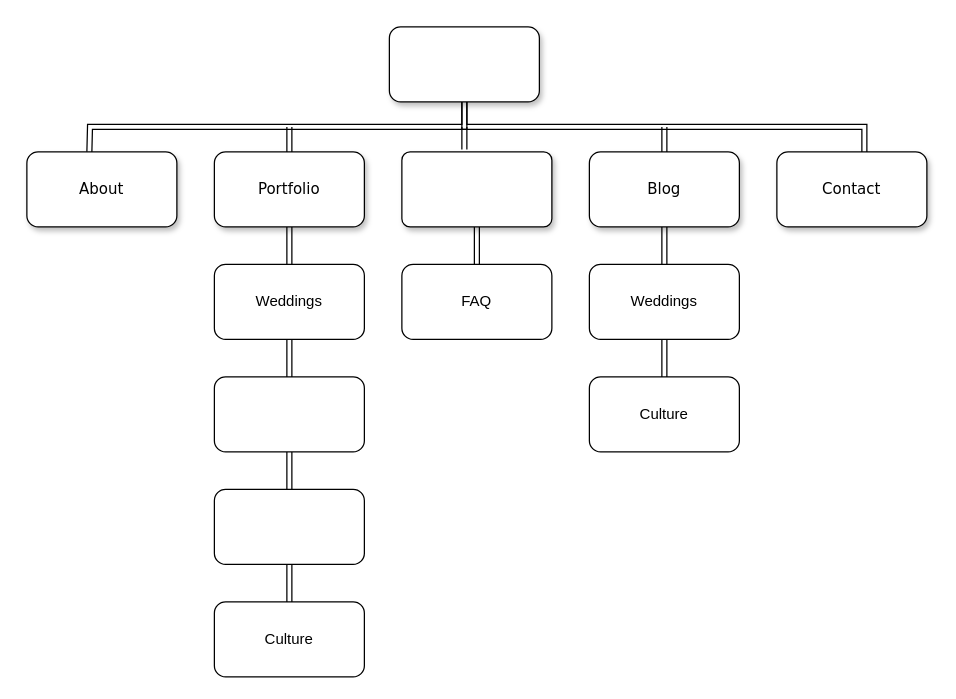
Image size: 956x699. Some labels were removed from this diagram. The shapes that lost their labels are listed below. From the top down, each one's centre as x and y in pixels, then its label:
At pixel 465 66: "Home".
At pixel 477 191: "Pricing".
At pixel 288 414: "Pride Fashion".
At pixel 288 526: "Couples/ Engagements".
